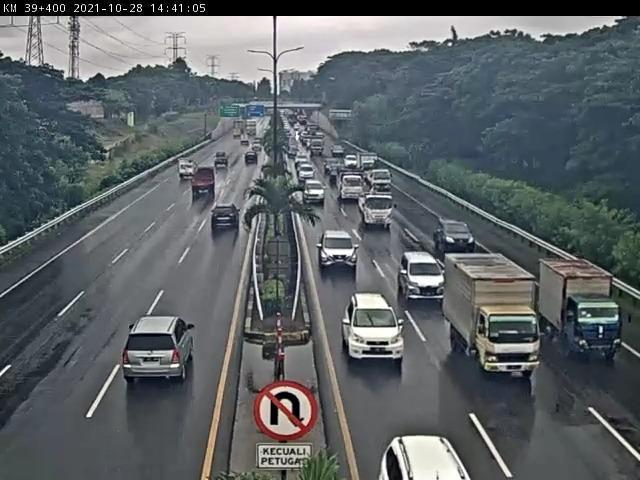car: (343, 293, 408, 363), (399, 251, 448, 304), (319, 231, 360, 275), (436, 220, 479, 255), (211, 204, 241, 232)
truck: (444, 254, 543, 378), (539, 258, 625, 361), (122, 316, 197, 384), (357, 189, 394, 229)
